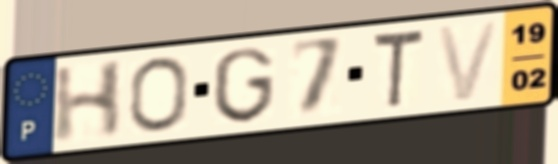7: (288, 37, 345, 121)
G: (210, 44, 277, 126)
H: (49, 57, 128, 147)
O: (127, 54, 191, 134)
T: (369, 26, 427, 112)
V: (433, 18, 505, 105)
